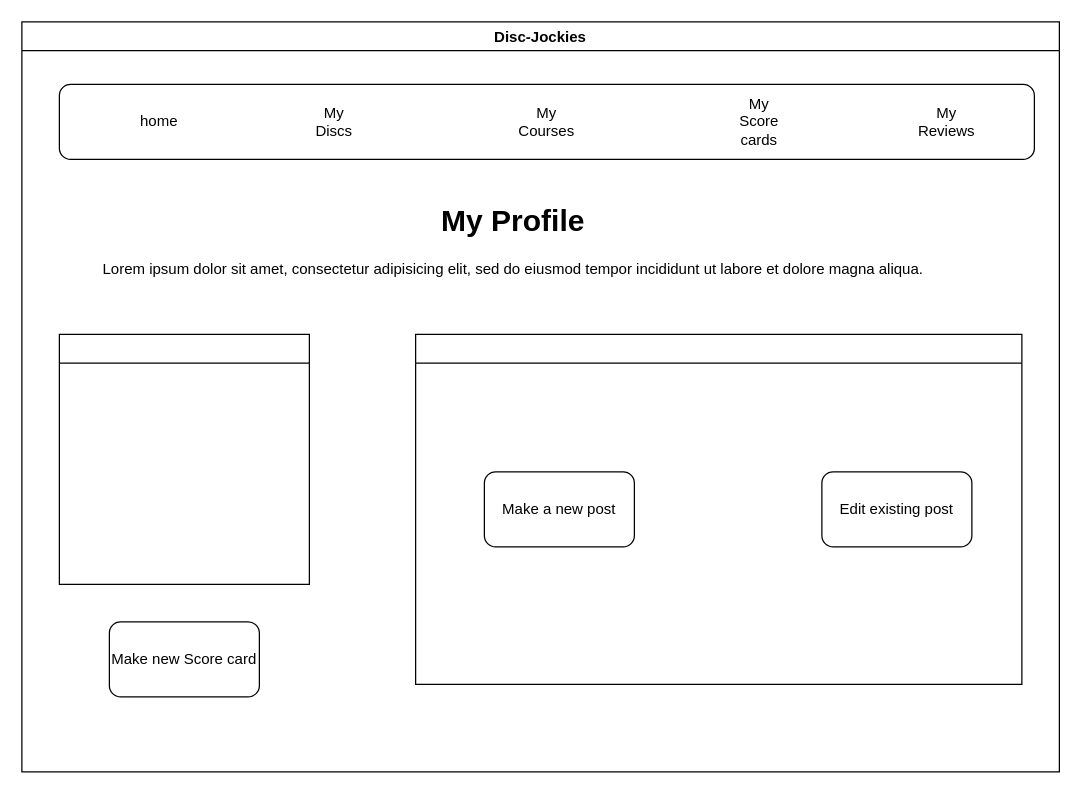
Image size: 1081x794. Some labels were removed from this diagram. The centre of each missing label's shape, as x and y in pixels:
"Container" goes at point 718,508.
"Most recent score-card" goes at point 183,458.
